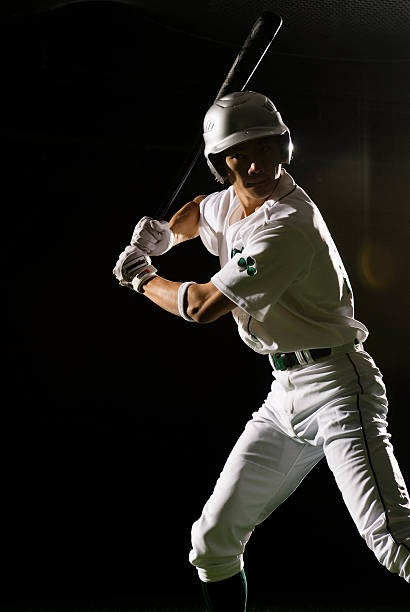bita: (149, 6, 282, 222)
